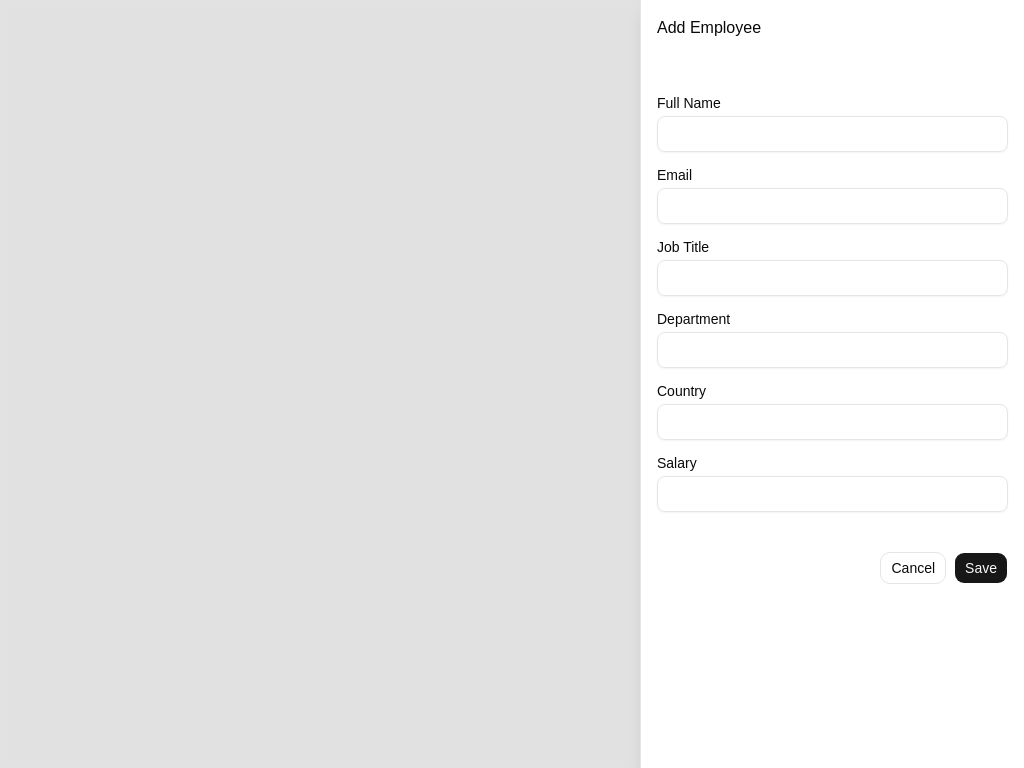
Test case: EmployeeForm › shows validation error when full name is empty on submit
Step 1. Click the button "Save" → (981, 568), box [954,552,1008,584]
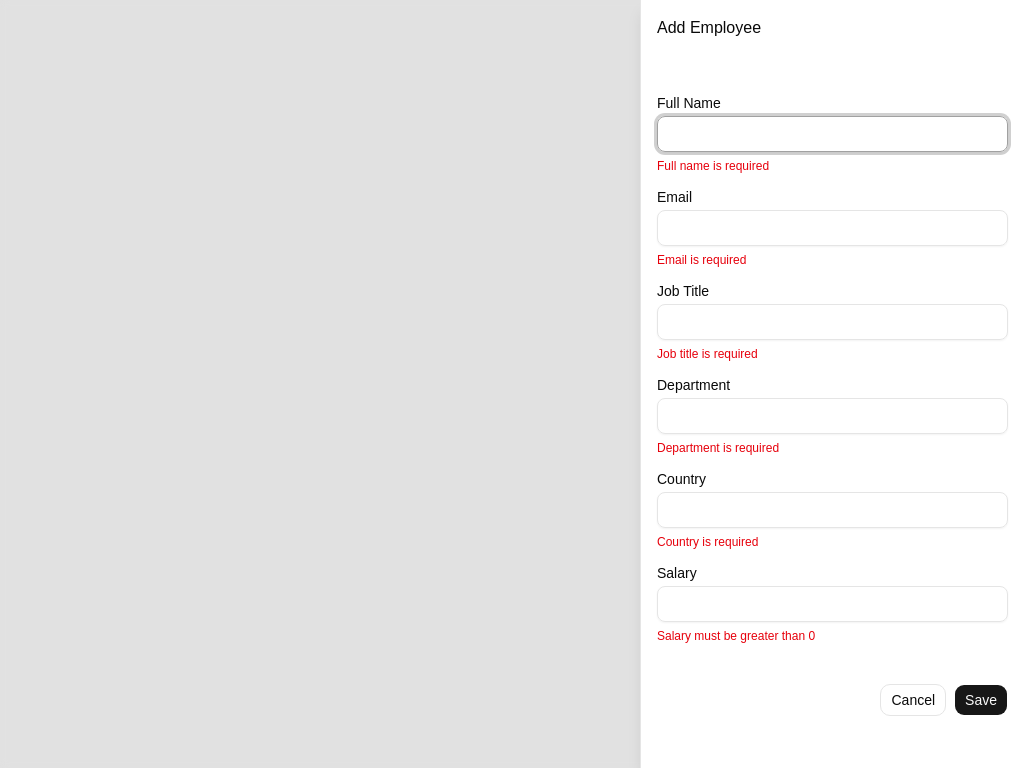
Check: the text "Full name is required" is shown, box [657,159,769,173]
